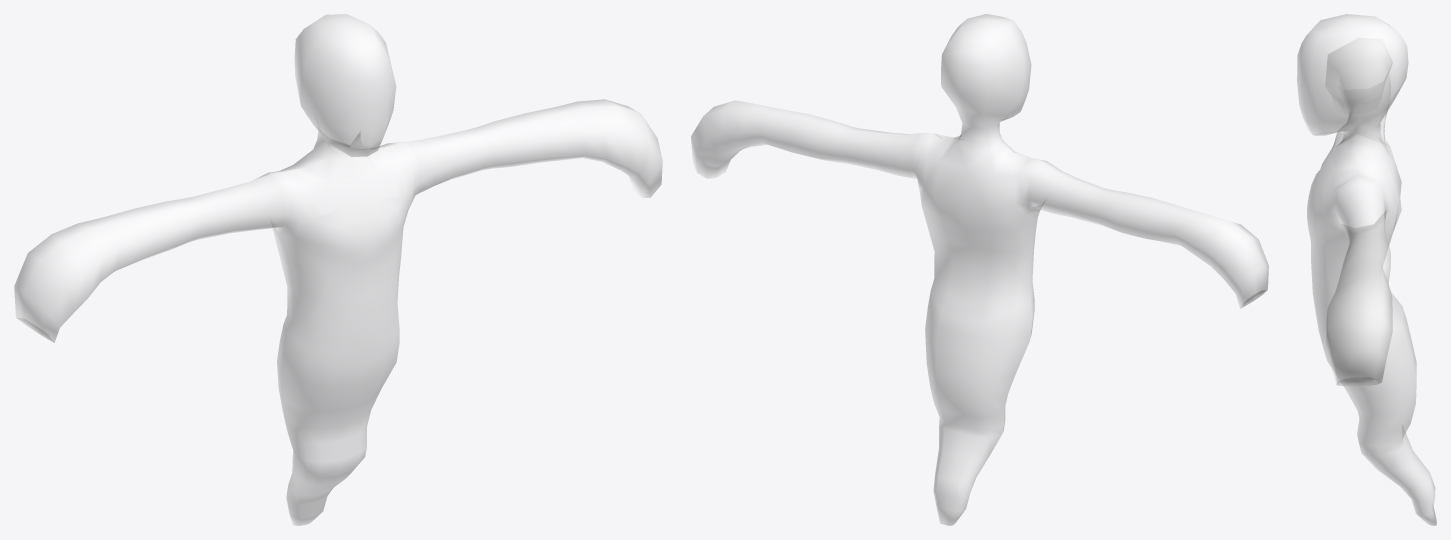
Rendered from ghost.glb.
The picture shows the model from 3 angles, left to right: view 1: azimuth 30°, elevation 25°; view 2: azimuth 150°, elevation 25°; view 3: azimuth 270°, elevation 25°; orthographic projection. The views are drawn at different scales.
Visible parts, largest first — view 1: Ghost; view 2: Ghost; view 3: Ghost.
Part boxes in pixels (box(x1,y1,x2,y2)): Ghost: box(14, 14, 662, 525); Ghost: box(691, 14, 1268, 525); Ghost: box(1297, 14, 1436, 525).
Size of the model in its own units: 1.54 by 1.24 by 0.3118.
1 material, 1 textured.
